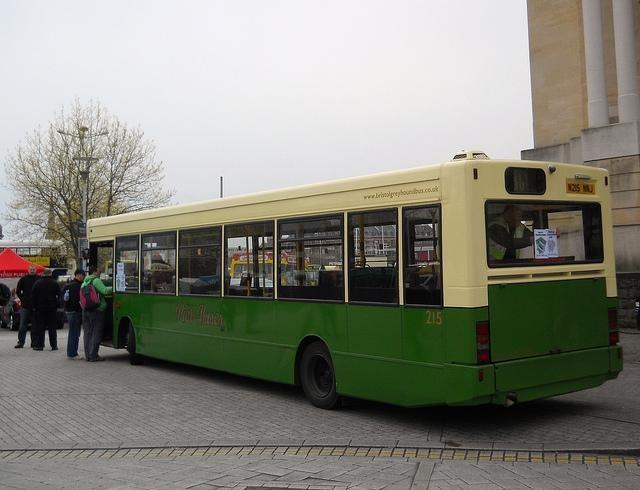bus: (80, 150, 625, 411)
